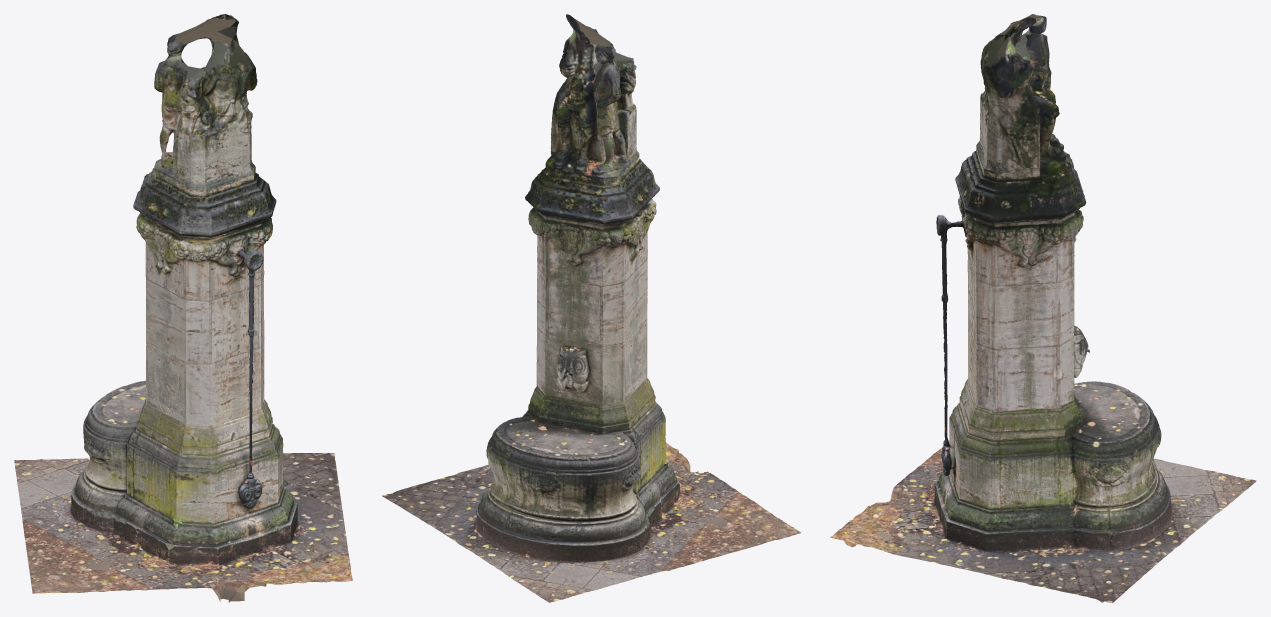
File: brunnen.glb
3 views of the same model, side by side, from view 1: azimuth 30°, elevation 25°; view 2: azimuth 150°, elevation 25°; view 3: azimuth 270°, elevation 25° (orthographic). The views are drawn at different scales.
Parts seen in each view (by area): view 1: Object_4; view 2: Object_4; view 3: Object_4.
Part boxes in pixels (bbox=[...]): Object_4: bbox=[14, 14, 352, 602]; Object_4: bbox=[382, 14, 800, 602]; Object_4: bbox=[830, 14, 1256, 602].
Size of the model in its own units: 0.3324 by 0.4467 by 0.3308.
Materials: 1 (1 with a texture image).
